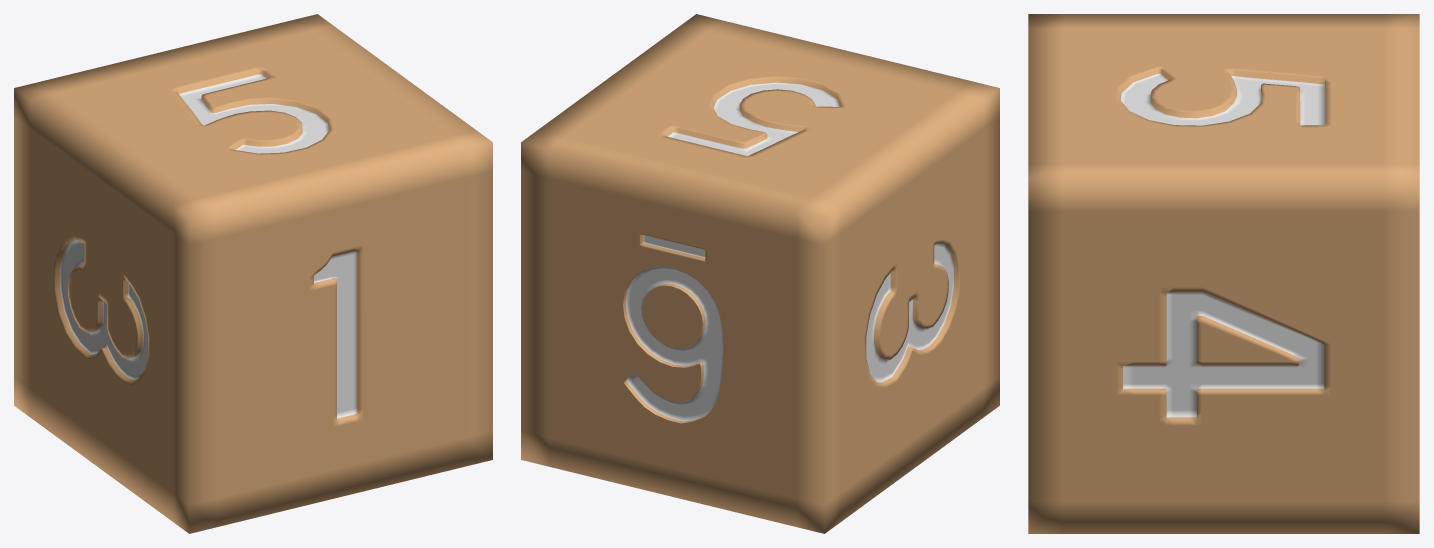
File: die_6.dae
3 renders of one model, left to right at view 1: azimuth 30°, elevation 25°; view 2: azimuth 150°, elevation 25°; view 3: azimuth 270°, elevation 25°, orthographic. The views are drawn at different scales.
Visible parts, largest first — view 1: Die6n; view 2: Die6n; view 3: Die6n.
Part boxes in pixels (left/top/right/bottom): Die6n: left=14, top=14, right=492, bottom=533; Die6n: left=521, top=14, right=999, bottom=533; Die6n: left=1028, top=14, right=1419, bottom=533.
Bounding box in the file's own units: 1 × 1 × 1.
